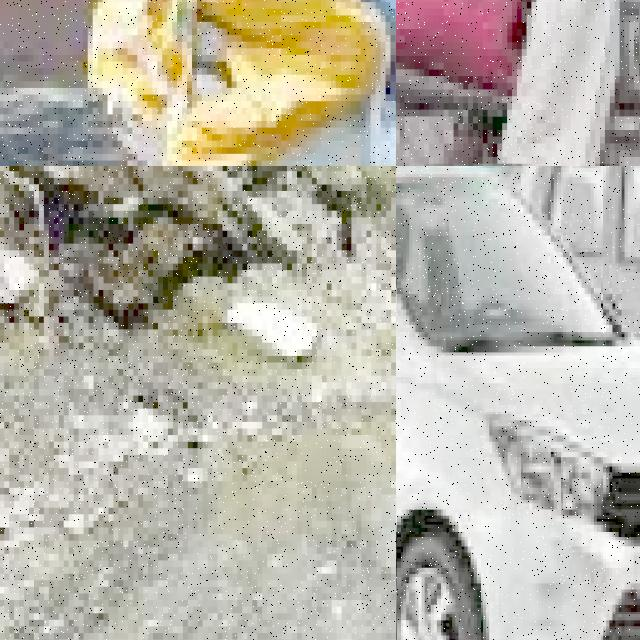bike: (127, 0, 396, 166), (396, 0, 640, 166)
car: (396, 166, 640, 640)
